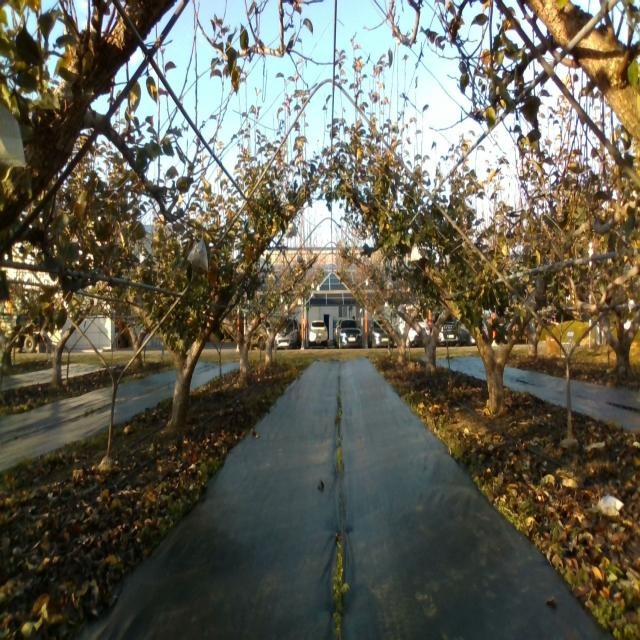pearbags: (187, 236, 208, 271), (410, 244, 422, 262)
